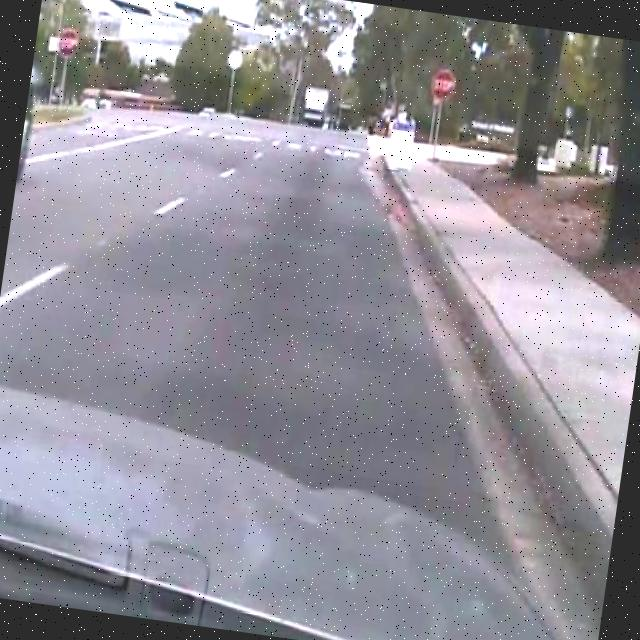Stop: (426, 66, 458, 106)
